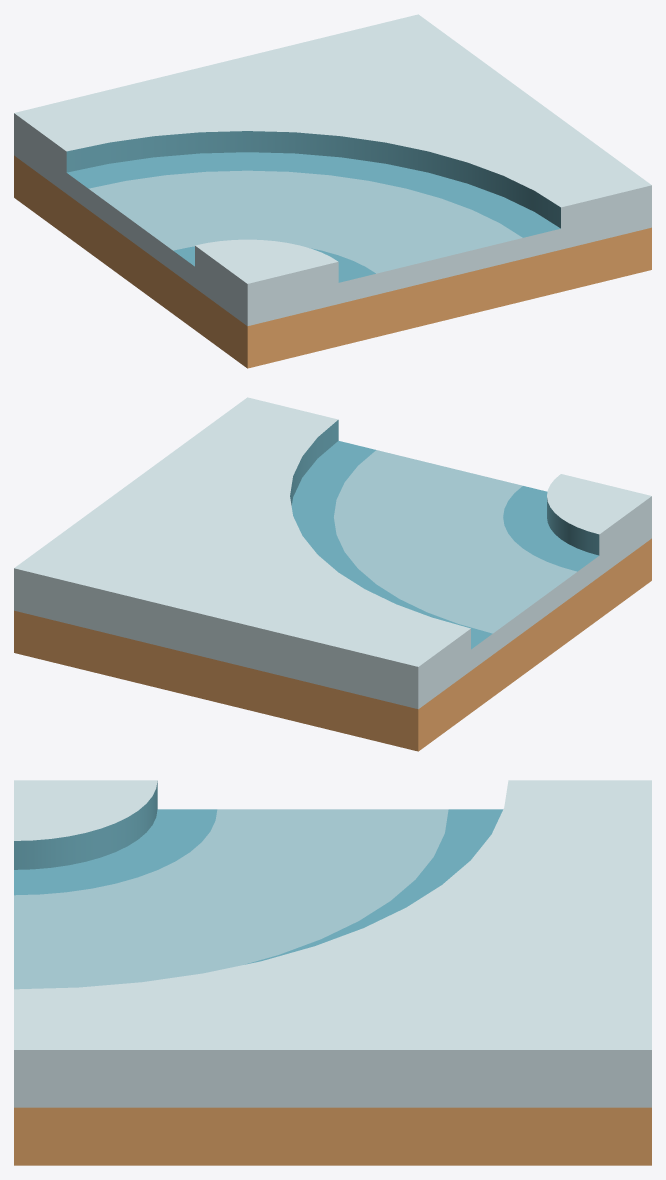
The model's file is snow_tile_cornerRound.dae.
3 renders of one model, top to bottom at view 1: azimuth 30°, elevation 25°; view 2: azimuth 150°, elevation 25°; view 3: azimuth 270°, elevation 25°, orthographic. The views are drawn at different scales.
Visible parts, largest first — view 1: snow_tile_cornerRound; view 2: snow_tile_cornerRound; view 3: snow_tile_cornerRound.
Boxes of the visible parts, x1,y1,x2,y2 form: snow_tile_cornerRound: (14,14,651,368); snow_tile_cornerRound: (14,397,651,751); snow_tile_cornerRound: (14,780,651,1165).
Bounding box in the file's own units: 1 × 0.2 × 1.
